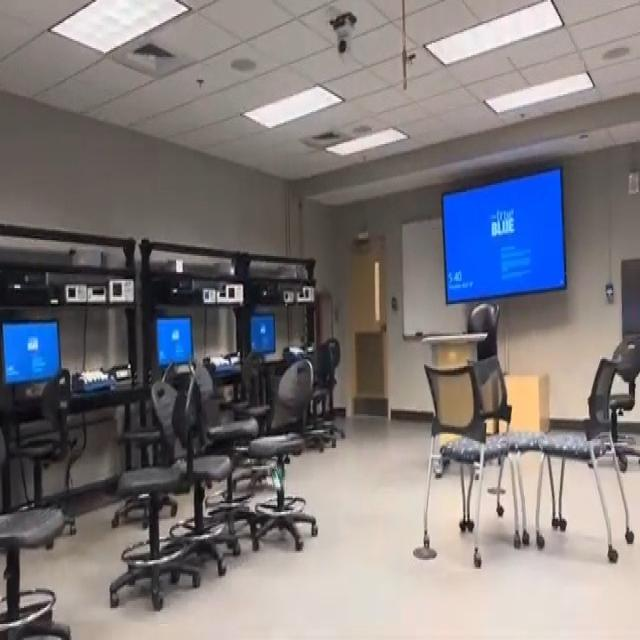drone: (250, 459, 293, 494)
